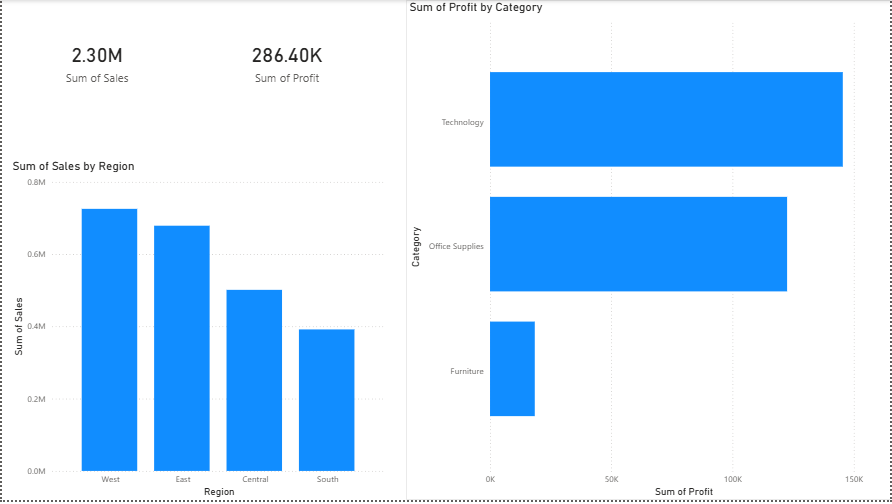

What the dashboard file says about the page in this screenshot:
{"tool":"powerbi","page":{"name":"Sales Dashboard","canvas":[1280,720],"ordinal":0},"visuals":[{"type":"card","fields":{"Values":["Sum(sales_data.Sales)"]},"box":[10.1,0,253.6,174.7],"z":0},{"type":"card","fields":{"Values":["Sum(sales_data.Profit)"]},"box":[283.9,0,253.6,176.4],"z":1000},{"type":"clusteredColumnChart","fields":{"Category":["sales_data.Region"],"Y":["Sum(sales_data.Sales)"]},"box":[10.1,228.5,547.6,492.2],"z":2000},{"type":"barChart","fields":{"Y":["Sum(sales_data.Profit)"],"Category":["sales_data.Category"]},"box":[581.2,0,698.8,720.6],"z":3000}]}

Visuals, with their boxes in screenshot pixels (x1, y1, x2, y2), scaled from the page's 1280x720 canvas onto the 892x504 screenshot:
card - Sum(sales_data.Sales): [7, 0, 184, 122]
card - Sum(sales_data.Profit): [198, 0, 375, 123]
clusteredColumnChart - sales_data.Region x Sum(sales_data.Sales): [7, 160, 389, 503]
barChart - Sum(sales_data.Profit) x sales_data.Category: [405, 0, 891, 503]
